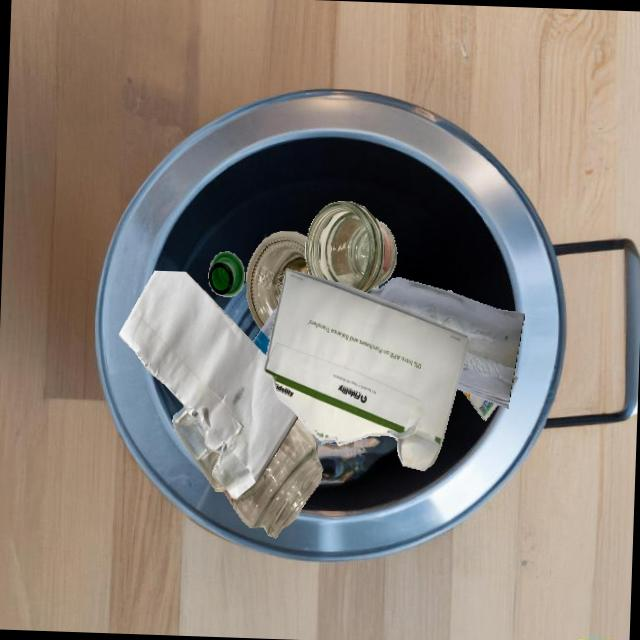cardboard: (451, 292, 514, 404), (319, 439, 354, 449)
glass: (366, 277, 524, 408), (223, 417, 322, 538), (305, 201, 397, 292), (246, 231, 309, 329), (208, 251, 244, 296)
paper: (263, 268, 468, 470), (119, 270, 298, 499), (370, 285, 378, 289)
plastic: (172, 406, 225, 492), (252, 306, 277, 355)
